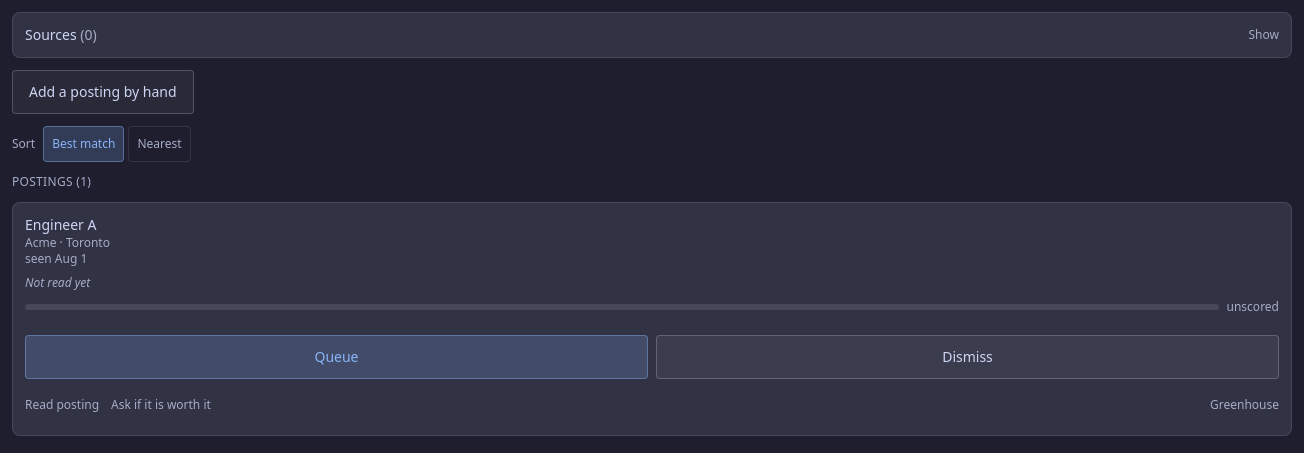
Feed decisions › dismisses the same way
Expected: the text "Engineer A" is shown, [25,215,96,234]
Click the button "Dismiss" at (968, 357), box [656,335,1279,379]
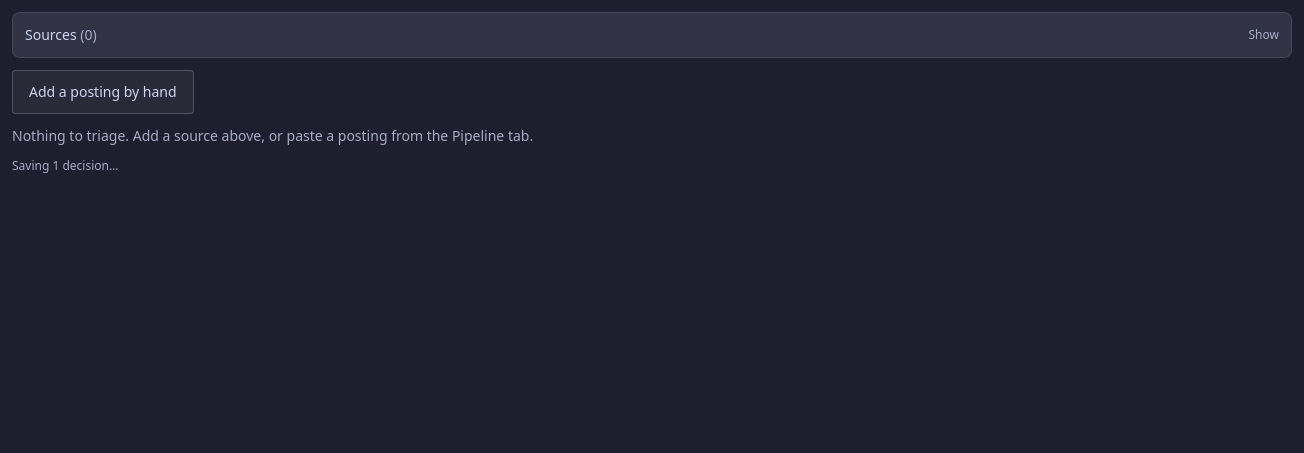
Expected: the text "Engineer A" is gone
